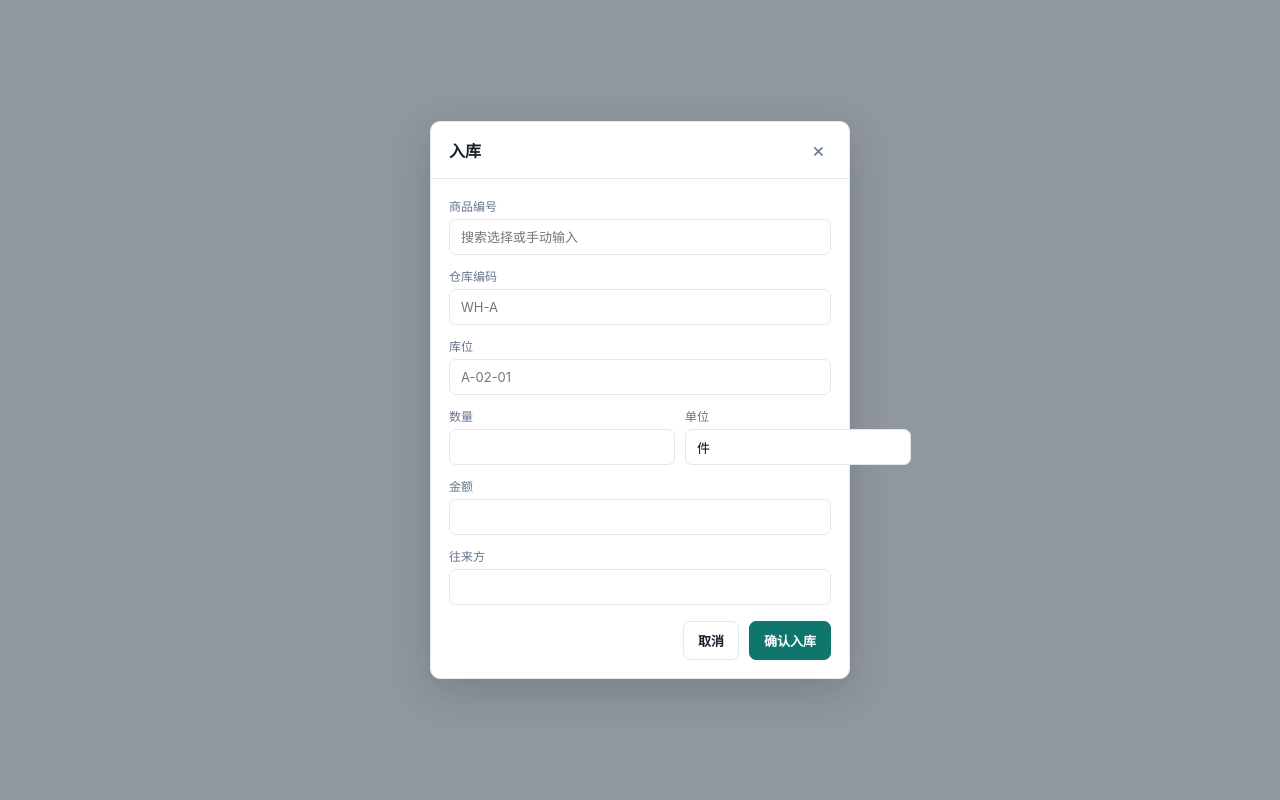
EntryFormModal › filters searchable product options from active products
Type "SKU-00" into the field with test id "product_uid" at (640, 237), box x1=449 y1=219 x2=831 y2=255
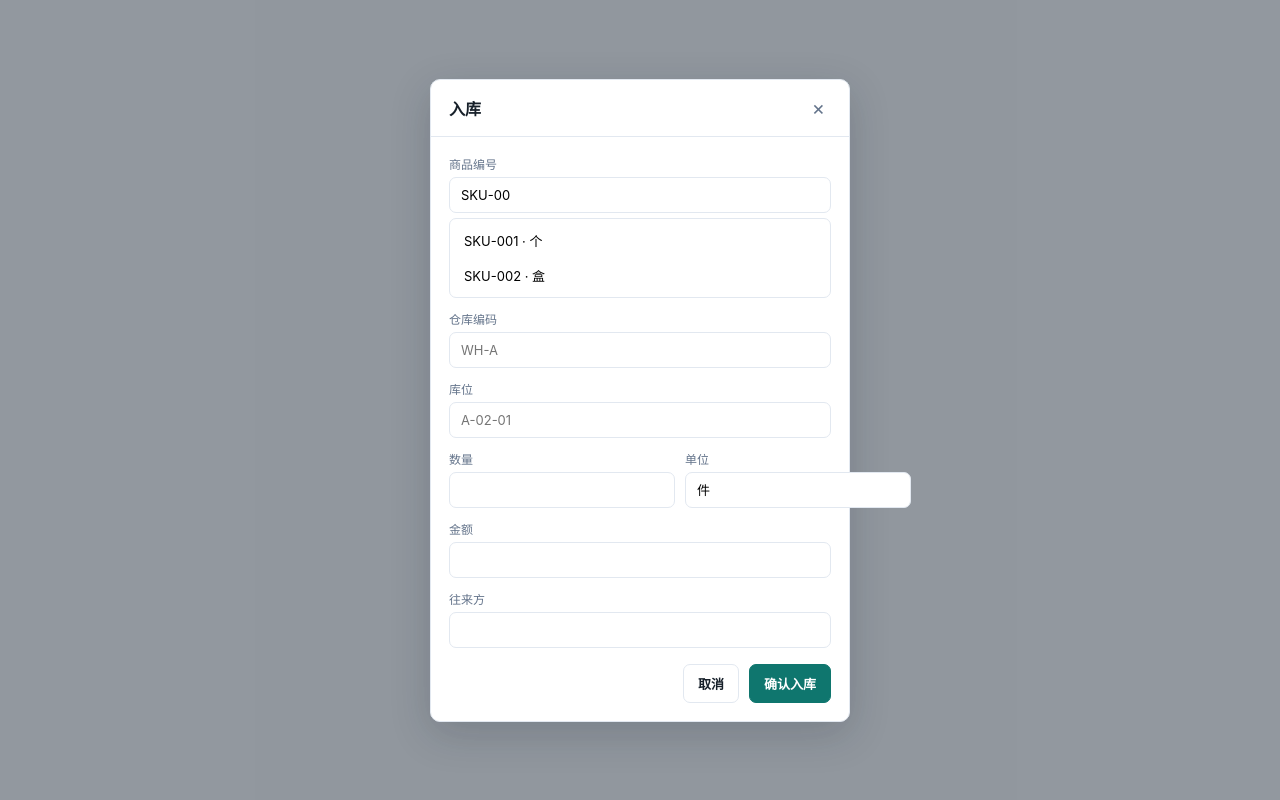
Expected: the button with test id "option-SKU-001" shows "SKU-001", x1=454 y1=222 x2=826 y2=258
